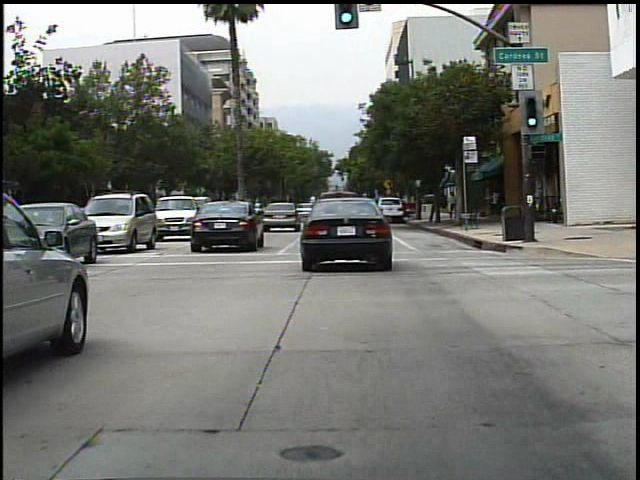person: (443, 189, 463, 223)
